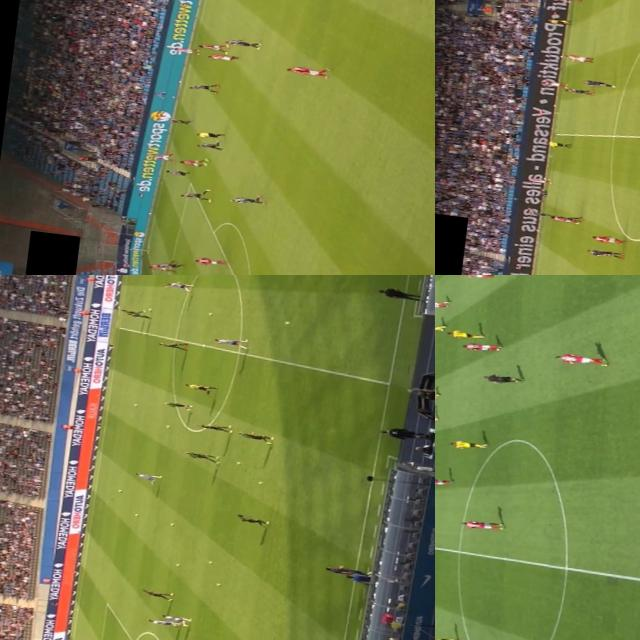ball: (206, 559, 212, 564), (130, 403, 136, 407), (166, 522, 172, 526), (214, 583, 220, 587), (205, 312, 211, 315), (130, 513, 136, 516), (234, 461, 239, 464), (284, 320, 287, 324), (164, 425, 168, 428), (116, 489, 120, 492), (146, 308, 150, 310), (256, 482, 260, 484), (174, 563, 176, 565)
player: (553, 350, 610, 369), (457, 516, 504, 534), (222, 34, 262, 52), (284, 64, 328, 80), (446, 437, 488, 452), (442, 328, 484, 343), (234, 431, 276, 444), (459, 340, 501, 353), (172, 156, 210, 170), (180, 186, 213, 202), (582, 247, 621, 260), (196, 40, 232, 54), (228, 192, 264, 206), (233, 513, 268, 527), (588, 232, 625, 245), (198, 421, 232, 435), (208, 51, 244, 64), (193, 255, 228, 268), (183, 450, 220, 462), (186, 82, 220, 95), (156, 339, 190, 352), (212, 336, 248, 348), (160, 613, 190, 627), (160, 278, 190, 292), (580, 78, 616, 89), (162, 167, 194, 179), (563, 52, 594, 64), (140, 588, 171, 600), (194, 140, 223, 152), (435, 474, 457, 489), (173, 46, 200, 58), (152, 261, 184, 271), (562, 87, 594, 97), (147, 152, 176, 162), (161, 401, 190, 411), (164, 117, 192, 127), (146, 262, 174, 272), (135, 473, 160, 484), (522, 174, 550, 183), (539, 78, 564, 88), (526, 210, 556, 218), (146, 618, 176, 626), (435, 296, 450, 310), (552, 215, 580, 222), (127, 311, 149, 319), (452, 275, 495, 279), (118, 308, 142, 315), (435, 634, 460, 640), (435, 320, 445, 334), (556, 0, 583, 3)
